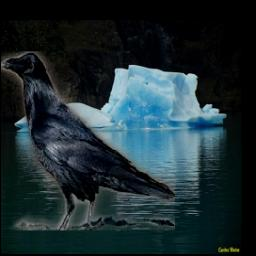Crow: (2, 51, 176, 230)
